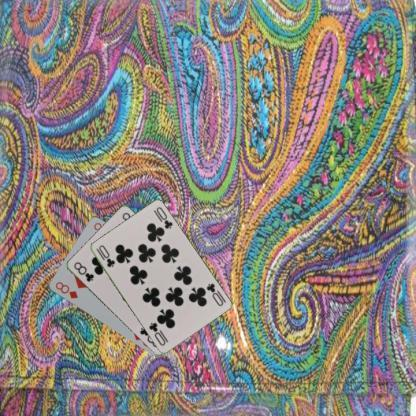10c: (94, 242, 116, 269), (203, 280, 224, 308)
8c: (70, 260, 96, 284)
8d: (52, 279, 80, 300)
